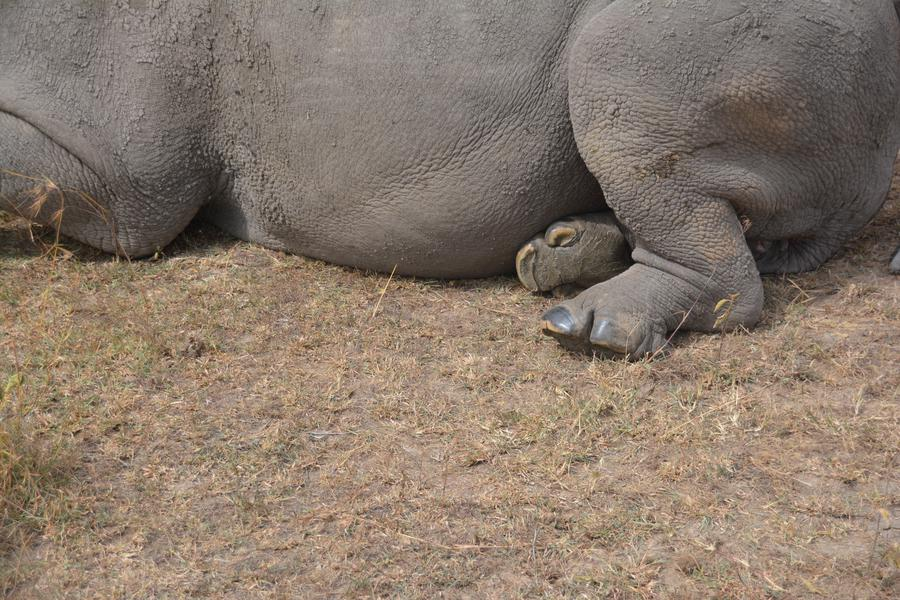rhino: (17, 8, 885, 295)
